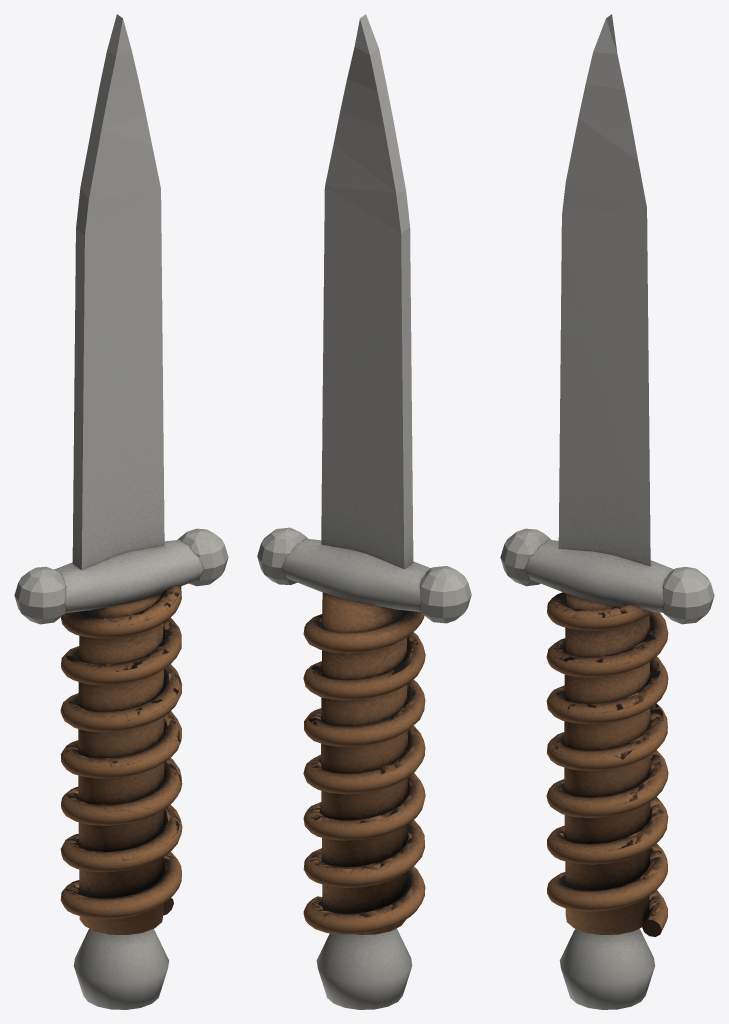
File: arma_faca_comum.glb
3 renders of one model, left to right at view 1: azimuth 30°, elevation 25°; view 2: azimuth 150°, elevation 25°; view 3: azimuth 330°, elevation 25°, orthographic.
Visible parts, largest first — view 1: arma_faca_comum; view 2: arma_faca_comum; view 3: arma_faca_comum.
Boxes of the visible parts, bbox=[...] form: arma_faca_comum: bbox=[14, 14, 228, 1009]; arma_faca_comum: bbox=[257, 14, 471, 1009]; arma_faca_comum: bbox=[500, 14, 714, 1009].
Size of the model in its own units: 0.0792 by 0.3612 by 0.0406.
Materials: 1 (1 with a texture image).
